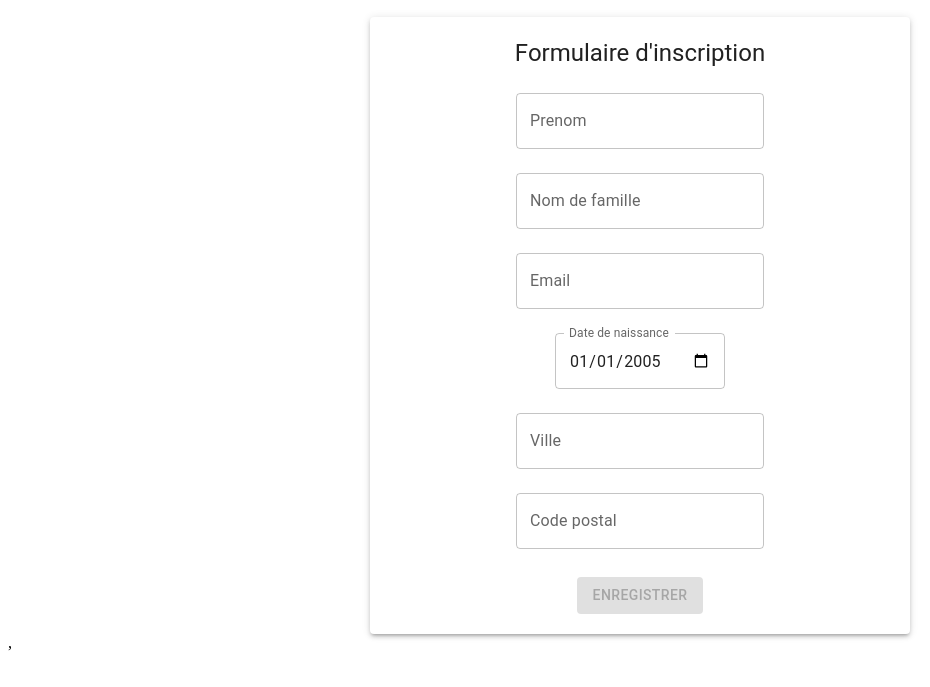
Scenario: Registration Form › should display an error if the first name contains invalid characters
This screenshot has width=930, height=687.
Note: Fill out the form fields with invalid characters in the first name
Type "Takwa123" into the field named "firstName".
click(640, 121); type("Takwa123")  # box [516,93,764,149]
Type "Zayene" into the field named "lastName".
click(640, 201); type("Zayene")  # box [516,173,764,229]
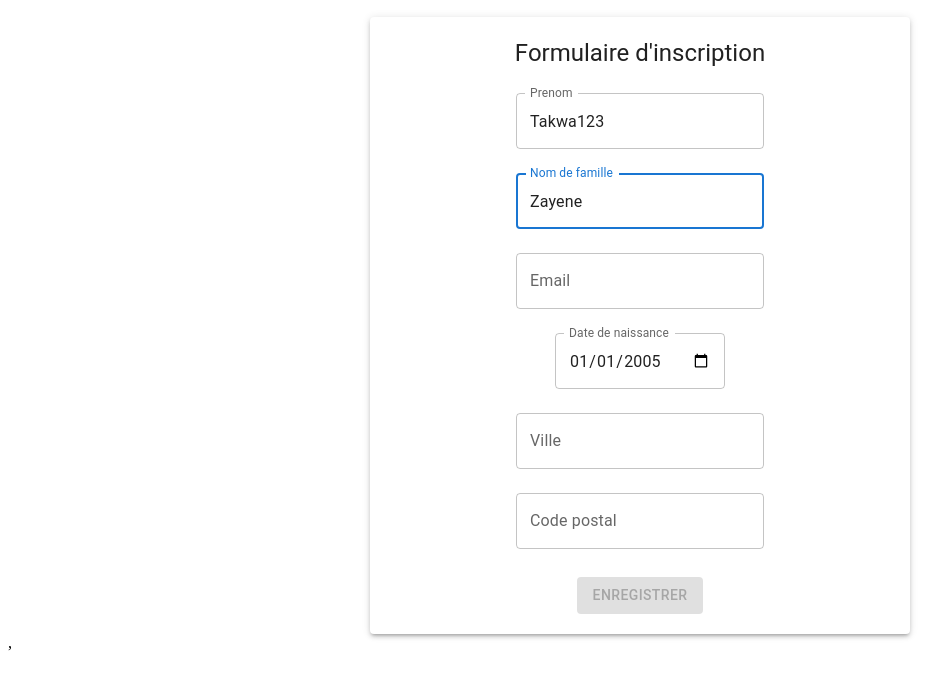
Type "Takwadoe@example.com" into the field named "email".
click(640, 281); type("Takwadoe@example.com")  # box [516,253,764,309]
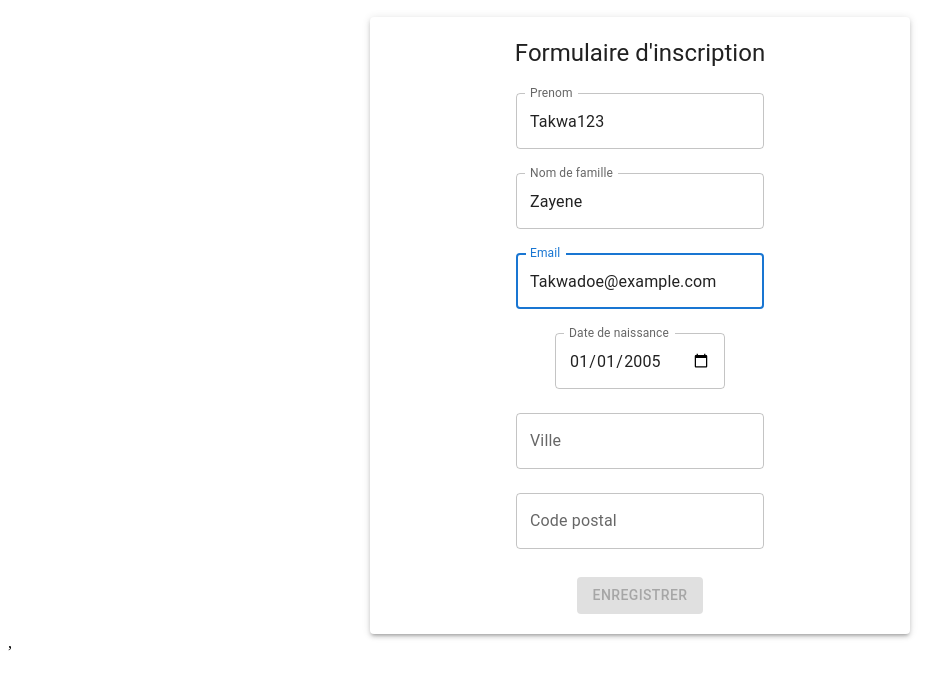
Type "1990-01-01" into the date field named "dateOfBirth".
click(640, 361); type("1990-01-01")  # box [555,333,725,389]
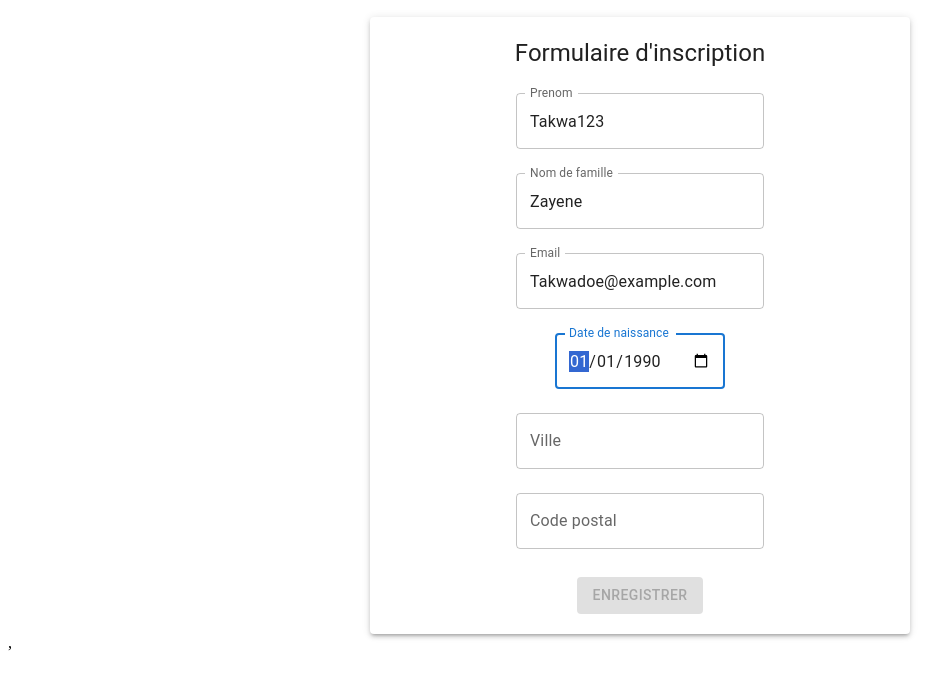
Type "New York" into the field named "city".
click(640, 441); type("New York")  # box [516,413,764,469]
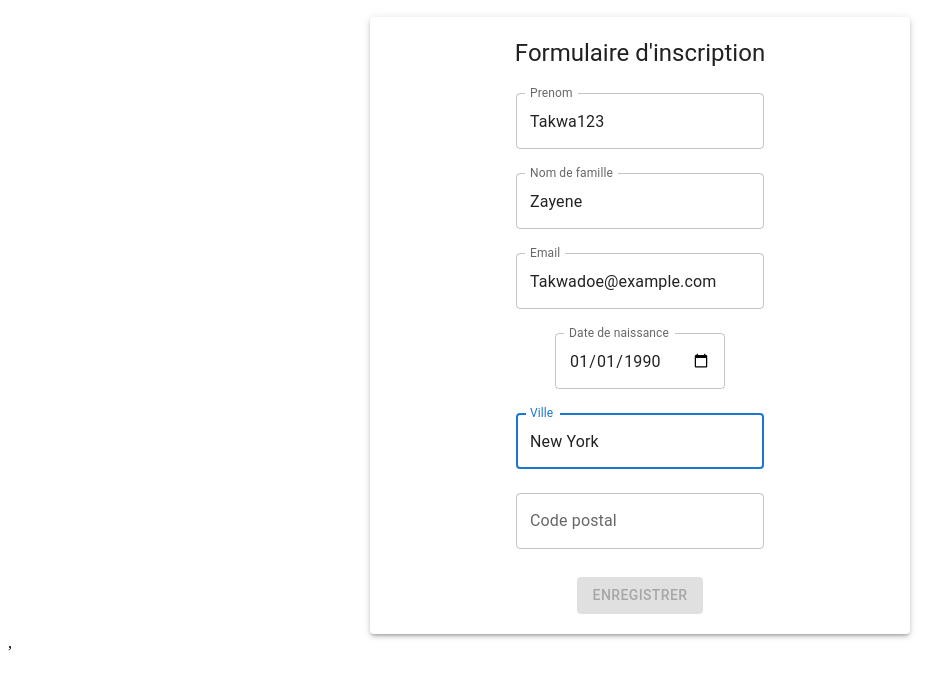
Type "10001" into the field named "postalCode".
click(640, 521); type("10001")  # box [516,493,764,549]
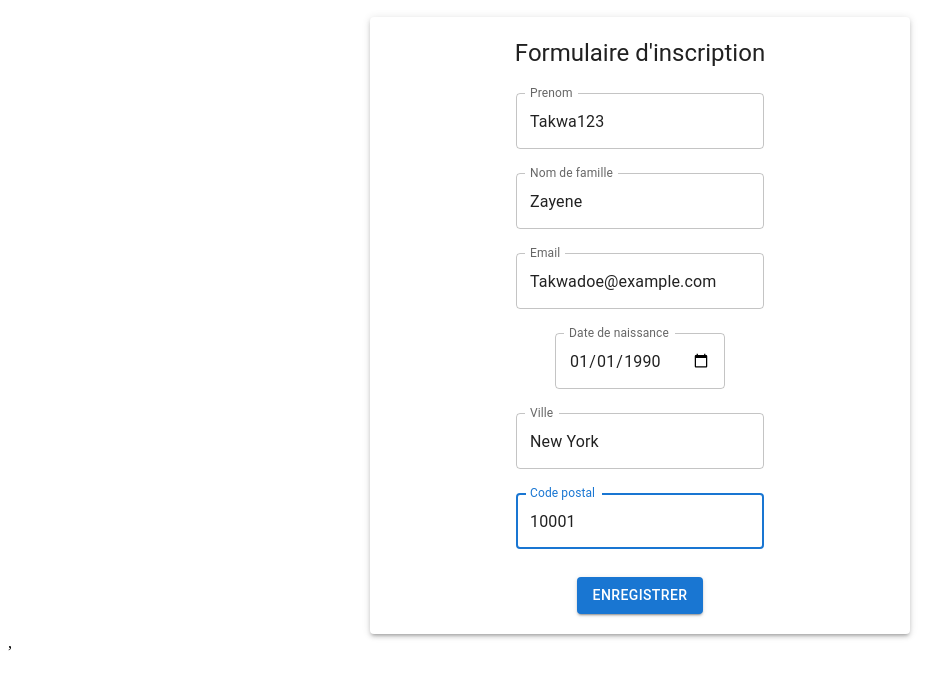
Note: Click the submit button
Click the submit button.
click(641, 596)  # box [577,577,704,614]
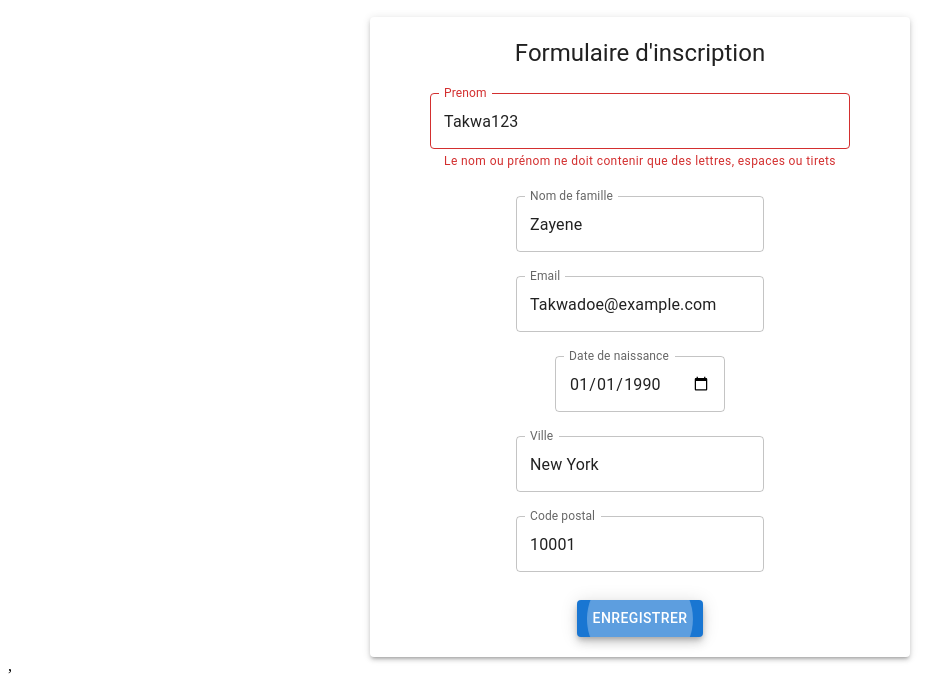
Expected: the text "Le nom ou prénom ne doit contenir que des lettres, espaces ou tirets" is shown, [444,152,836,172]
